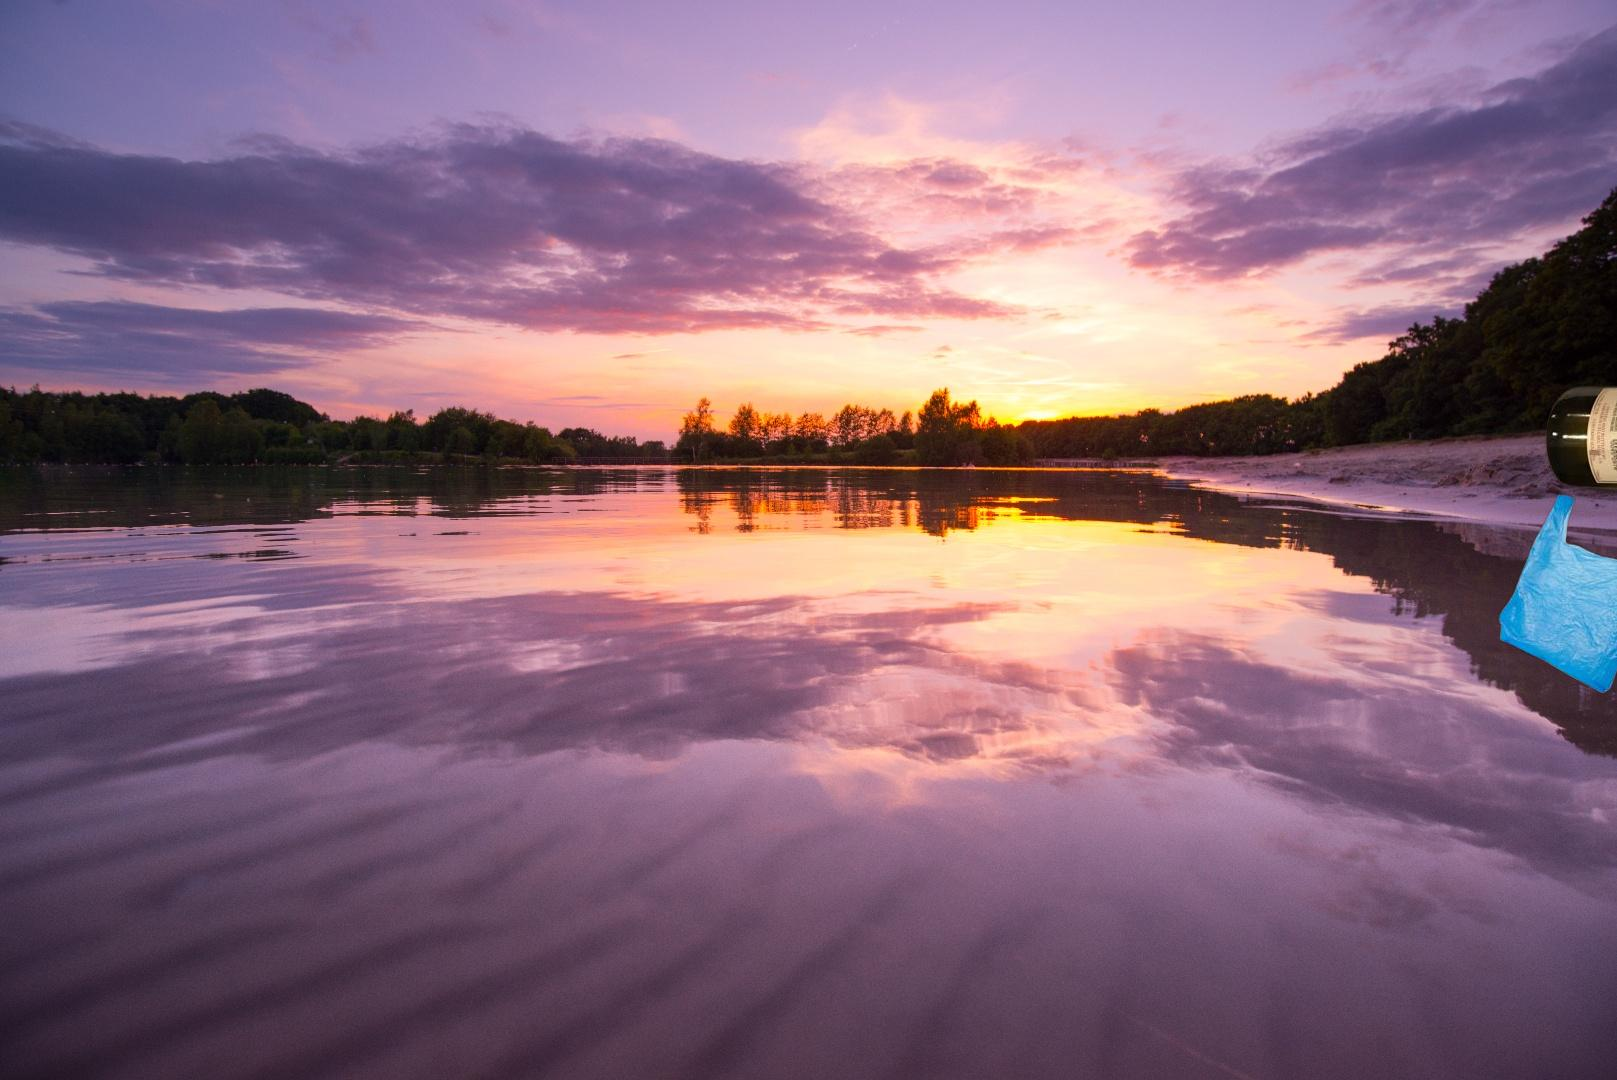glass: (1542, 235, 1617, 495)
penholder: (1184, 906, 1617, 1080)
plastic-bag: (1497, 492, 1617, 695)
